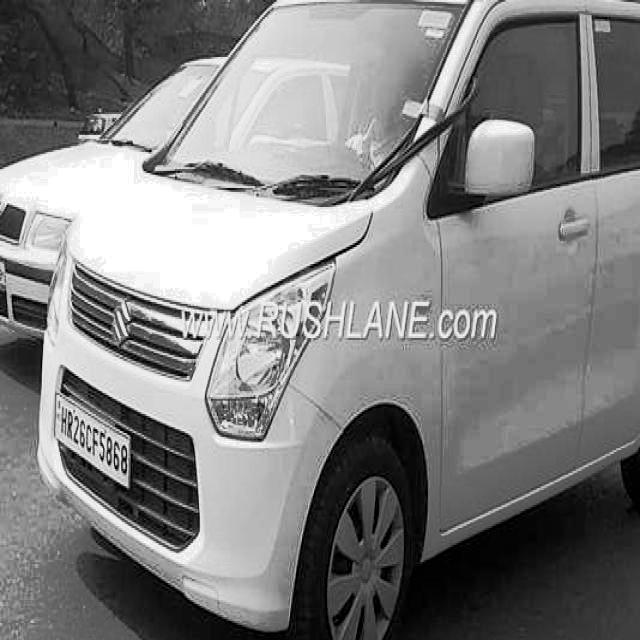Car: (38, 6, 640, 638), (0, 51, 221, 465)
